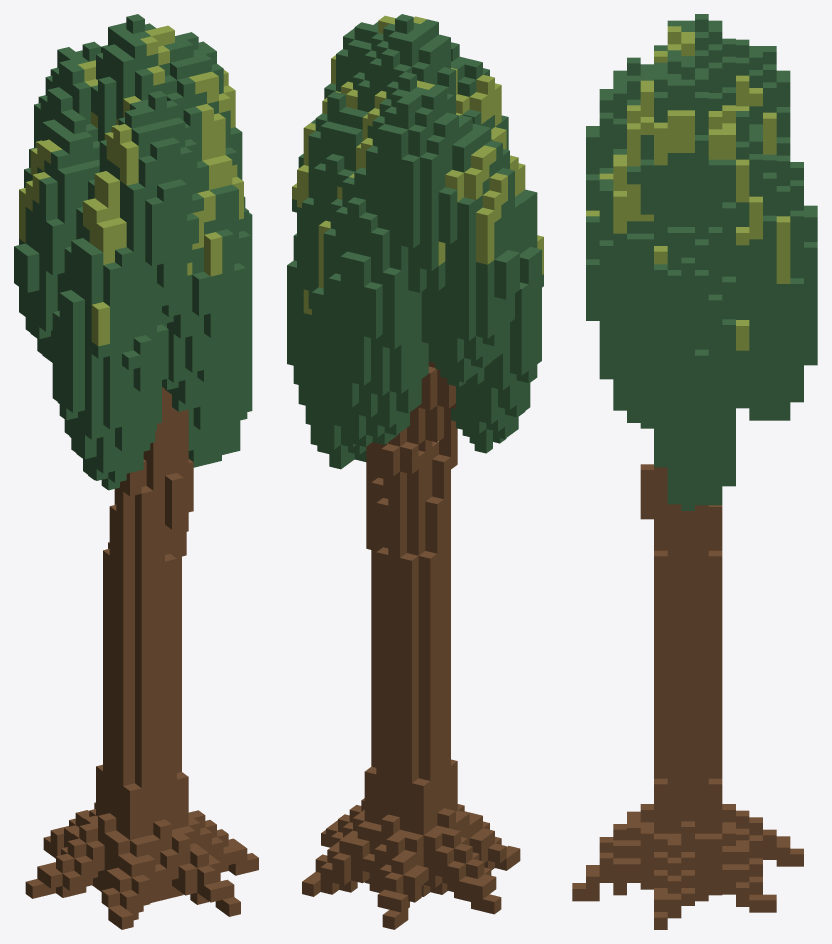
The model's file is ENV-055.glb.
3 views of the same model, side by side, from view 1: azimuth 30°, elevation 25°; view 2: azimuth 150°, elevation 25°; view 3: azimuth 270°, elevation 25° (orthographic).
Parts seen in each view (by area): view 1: 柏类柱冠树母版; view 2: 柏类柱冠树母版; view 3: 柏类柱冠树母版.
Boxes of the visible parts, x1,y1,x2,y2 form: 柏类柱冠树母版: (14,14,258,929); 柏类柱冠树母版: (287,14,543,929); 柏类柱冠树母版: (572,14,817,929).
Bounding box in the file's own units: 3.8 × 14 × 3.6.
3 materials, 3 textured.
